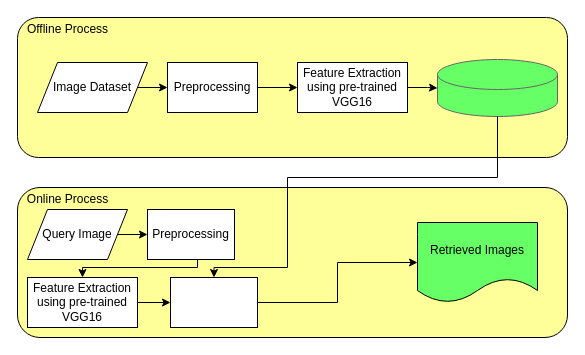
This 585x355 diagram has some shape labels left out. The centre of each missing label's shape, as x and y in pixels:
"Feature Database" belongs at (x=497, y=87).
"Similarity Measurement" belongs at (x=214, y=302).
